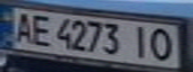2: (66, 17, 87, 52)
3: (103, 20, 127, 56)
4: (51, 16, 72, 51)
7: (84, 18, 106, 53)
A: (6, 9, 36, 45)
E: (27, 11, 54, 47)
I: (124, 24, 154, 60)
O: (145, 25, 181, 62)
